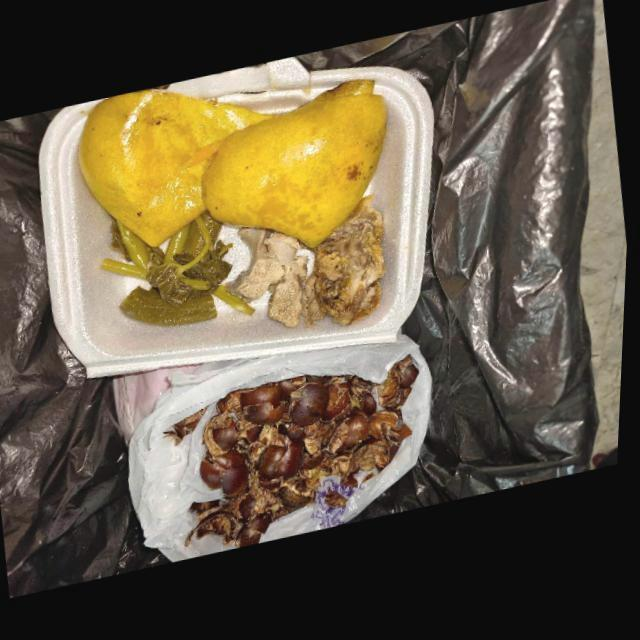left_over_food: (318, 199, 389, 334), (227, 232, 302, 310), (271, 248, 332, 335)
